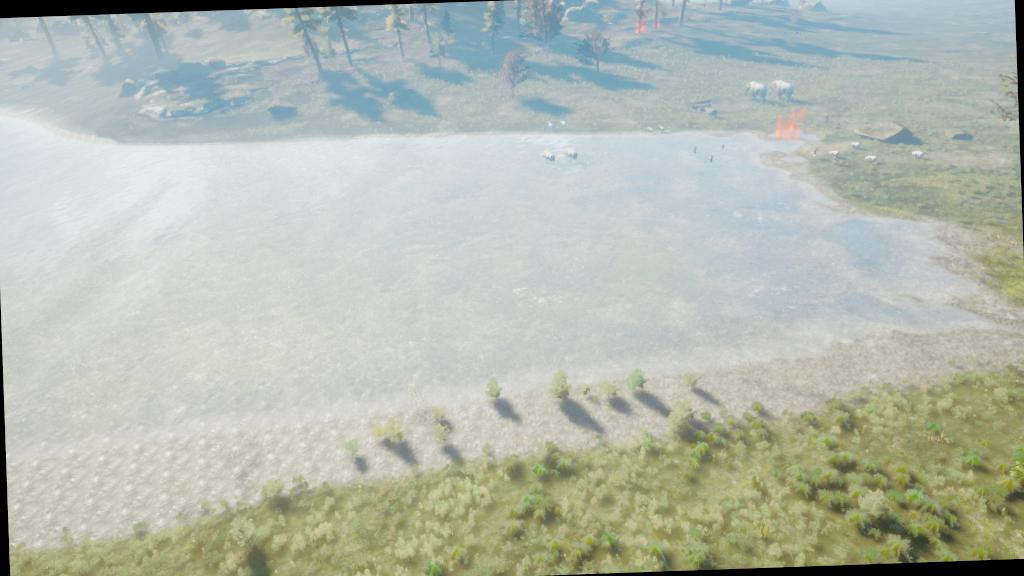Fire: (774, 108, 804, 142)
elephant: (771, 77, 795, 103), (745, 80, 769, 103)
human: (692, 144, 698, 156), (812, 146, 818, 158), (824, 112, 829, 122), (720, 142, 725, 152), (832, 154, 836, 164), (708, 154, 712, 162), (784, 30, 788, 38), (794, 30, 798, 37), (798, 32, 802, 39), (804, 34, 808, 40)
pig: (910, 150, 926, 160), (828, 148, 840, 156), (864, 154, 876, 162), (849, 141, 862, 148)
rhinoceros: (561, 146, 580, 162), (541, 148, 555, 163)
zebra: (544, 119, 556, 130), (558, 117, 566, 128)
